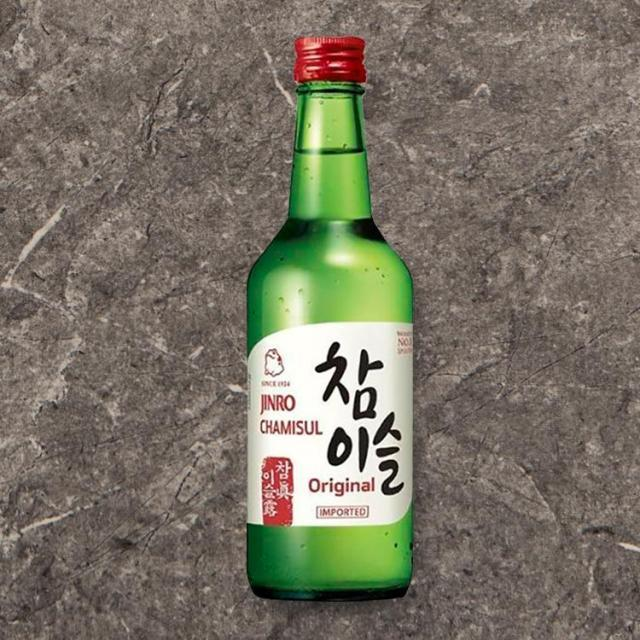soju-bottle: (245, 34, 416, 603)
